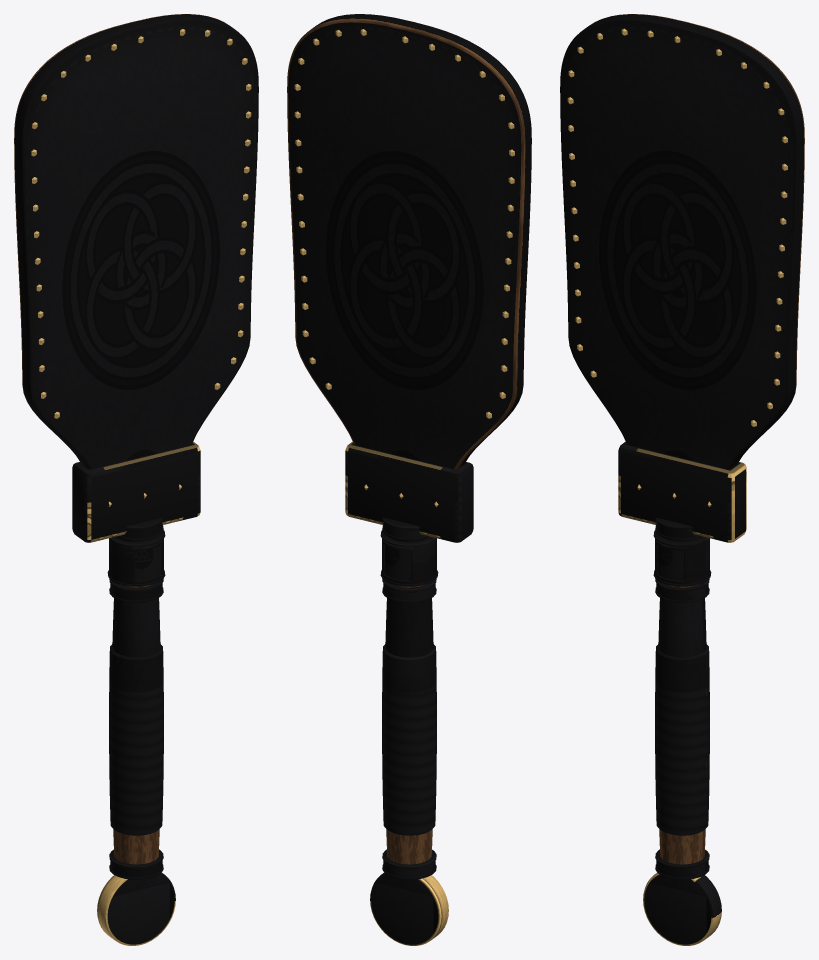
File: Paddle.fbx
3 renders of one model, left to right at view 1: azimuth 30°, elevation 25°; view 2: azimuth 150°, elevation 25°; view 3: azimuth 330°, elevation 25°, orthographic.
Parts seen in each view (by area): view 1: Paddle; view 2: Paddle; view 3: Paddle.
Part boxes in pixels (<box>): Paddle: <box>14,14,258,945</box>; Paddle: <box>287,14,531,945</box>; Paddle: <box>560,14,804,945</box>.
Bounding box in the file's own units: 0.176 × 0.65 × 0.037.
